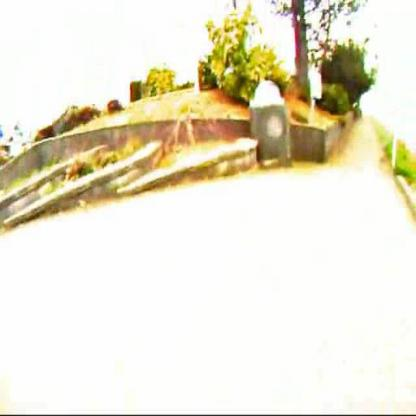other: (175, 77, 283, 168)
